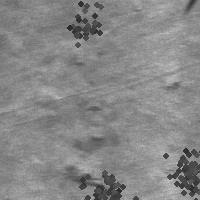rolled-in_scale: (56, 94, 109, 192), (55, 0, 109, 50), (155, 141, 200, 200), (75, 160, 133, 200), (157, 66, 183, 94)
